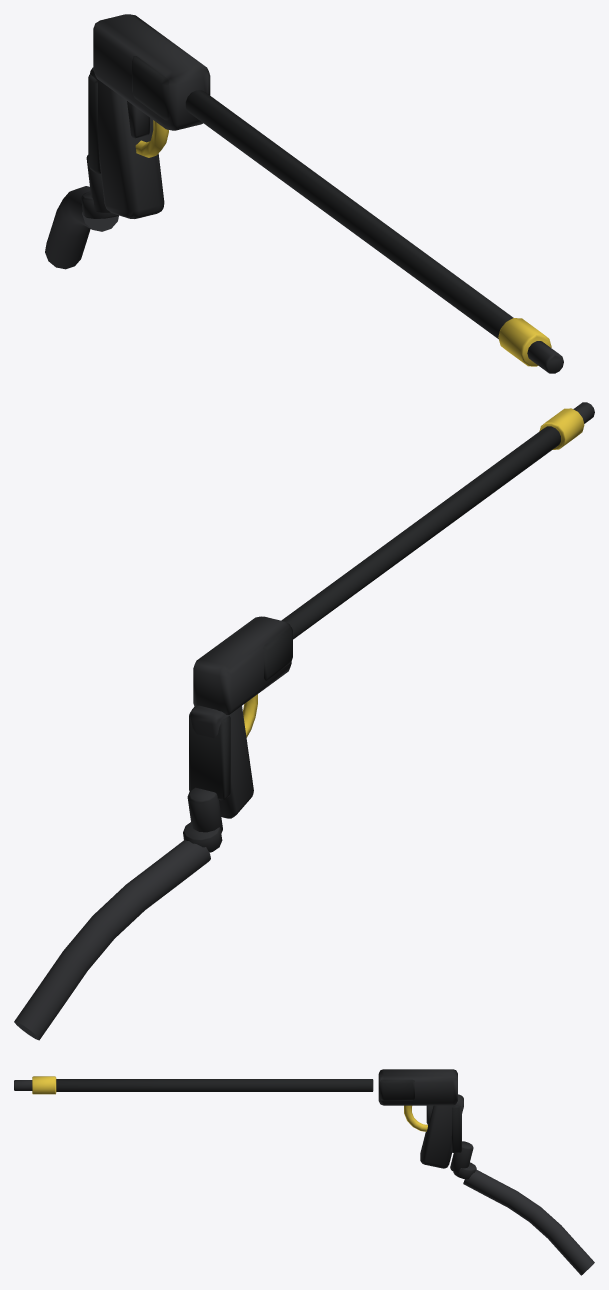
Rendered from asset_079_pressure_washer_hose_and_wand_fp.glb.
3 renders of one model, top to bottom at view 1: azimuth 30°, elevation 25°; view 2: azimuth 150°, elevation 25°; view 3: azimuth 270°, elevation 25°, orthographic. The views are drawn at different scales.
Visible parts, largest first — view 1: MESH_WandLance, MESH_GunBody, MESH_GunGrip, MESH_WandHoseTail, MESH_GunShroud, MESH_WandTipCollar, MESH_GunGripStrap, MESH_WandNozzle, MESH_GunTriggerGuard, MESH_WandTriggerBlade, MESH_GunHoseInlet; view 2: MESH_WandHoseTail, MESH_WandLance, MESH_GunBody, MESH_GunGrip, MESH_GunGripStrap, MESH_GunHoseInlet, MESH_GunShroud, MESH_WandTipCollar; view 3: MESH_WandLance, MESH_WandHoseTail, MESH_GunBody, MESH_GunGrip, MESH_GunShroud, MESH_GunGripStrap, MESH_WandTipCollar, MESH_GunHoseInlet.
Boxes of the visible parts, left/top/right/bottom form: MESH_WandLance: left=185, top=90, right=513, bottom=338; MESH_GunBody: left=93, top=14, right=208, bottom=130; MESH_GunGrip: left=90, top=67, right=164, bottom=218; MESH_WandHoseTail: left=45, top=186, right=118, bottom=269; MESH_GunShroud: left=132, top=56, right=210, bottom=120; MESH_WandTipCollar: left=498, top=318, right=551, bottom=366; MESH_GunGripStrap: left=88, top=74, right=100, bottom=173; MESH_WandNozzle: left=527, top=341, right=563, bottom=373; MESH_GunTriggerGuard: left=135, top=120, right=168, bottom=157; MESH_WandTriggerBlade: left=127, top=101, right=149, bottom=138; MESH_GunHoseInlet: left=86, top=155, right=110, bottom=212; MESH_WandHoseTail: left=14, top=840, right=210, bottom=1040; MESH_WandLance: left=281, top=426, right=560, bottom=639; MESH_GunBody: left=193, top=616, right=291, bottom=714; MESH_GunGrip: left=190, top=705, right=253, bottom=818; MESH_GunGripStrap: left=189, top=712, right=230, bottom=800; MESH_GunHoseInlet: left=187, top=787, right=222, bottom=833; MESH_GunShroud: left=263, top=626, right=292, bottom=680; MESH_WandTipCollar: left=539, top=408, right=584, bottom=449; MESH_WandLance: left=56, top=1079, right=373, bottom=1091; MESH_WandHoseTail: left=463, top=1170, right=594, bottom=1275; MESH_GunBody: left=378, top=1069, right=457, bottom=1105; MESH_GunGrip: left=420, top=1094, right=463, bottom=1168; MESH_GunShroud: left=380, top=1079, right=414, bottom=1100; MESH_GunGripStrap: left=451, top=1106, right=461, bottom=1152; MESH_WandTipCollar: left=32, top=1076, right=56, bottom=1094; MESH_GunHoseInlet: left=450, top=1141, right=473, bottom=1173.
Bounding box in the file's own units: 0.1327 × 0.3805 × 1.09.
